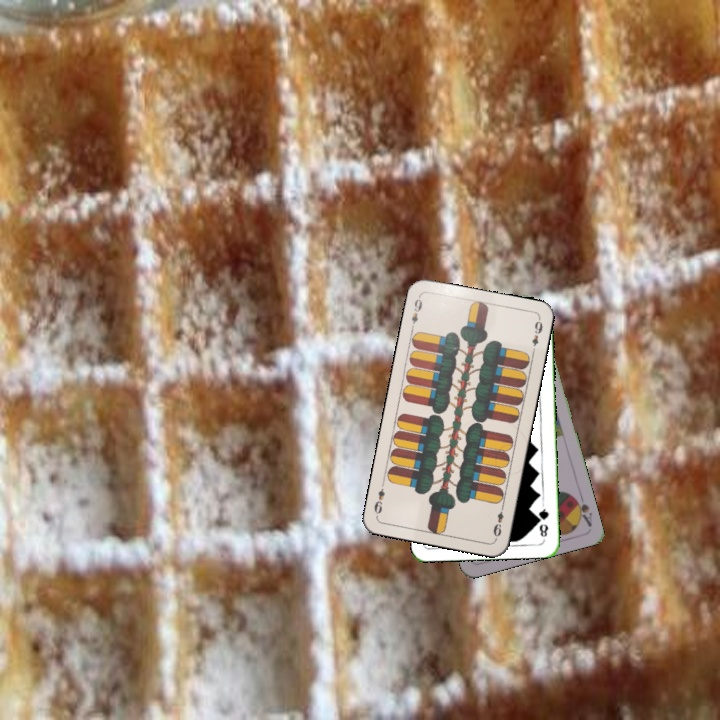E9: (407, 292, 425, 332), (489, 501, 507, 539)
G8: (534, 501, 551, 539)
SA: (569, 490, 595, 529)
